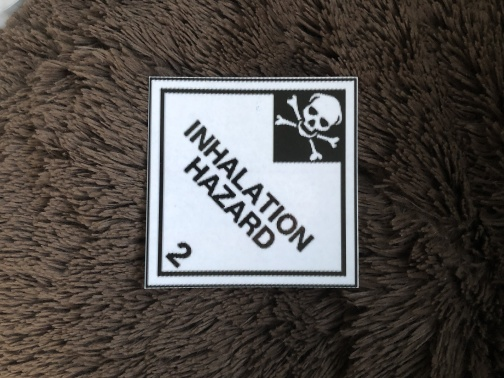InhalationHazard: (142, 75, 361, 288)
